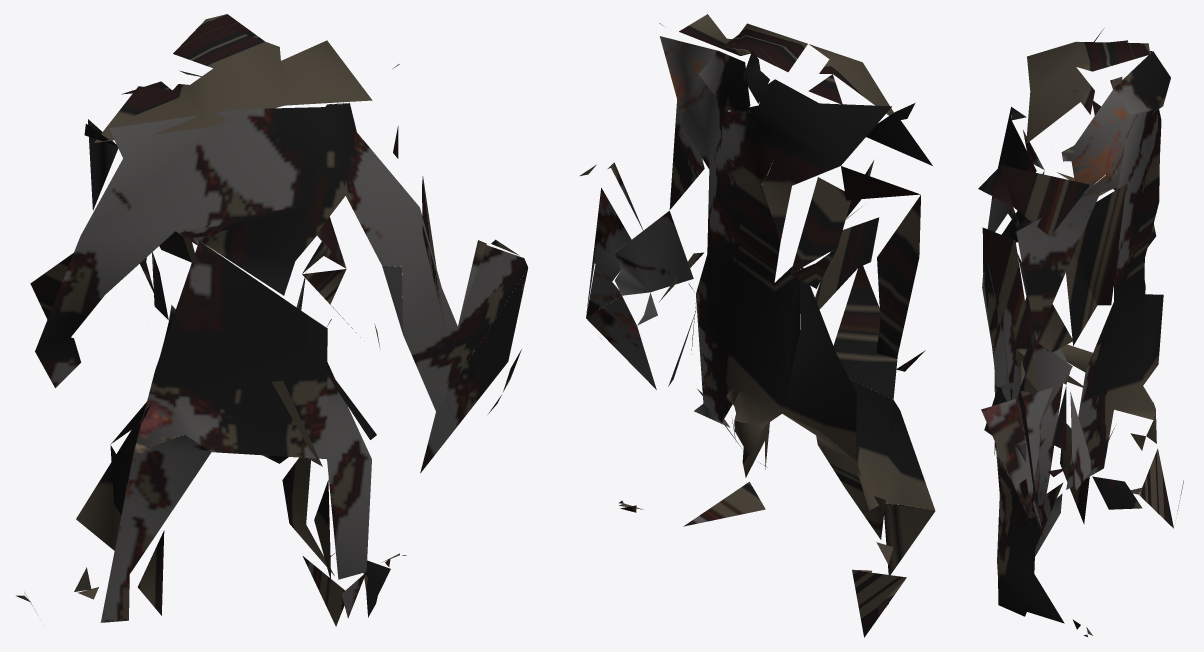
The picture shows the model from 3 angles, left to right: view 1: azimuth 30°, elevation 25°; view 2: azimuth 150°, elevation 25°; view 3: azimuth 270°, elevation 25°; orthographic projection. The views are drawn at different scales.
Parts seen in each view (by area): view 1: body.002; view 2: body.002; view 3: body.002.
Part boxes in pixels (left/top/right/bottom): body.002: left=16, top=14, right=527, bottom=626; body.002: left=579, top=14, right=935, bottom=637; body.002: left=978, top=29, right=1183, bottom=636.
Bounding box in the file's own units: 1.65 × 2.07 × 0.7151.
Materials: 1 (1 with a texture image).
